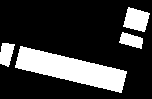parkingspot: (15, 46, 126, 92), (123, 7, 149, 31), (119, 32, 142, 48), (0, 43, 14, 66)
